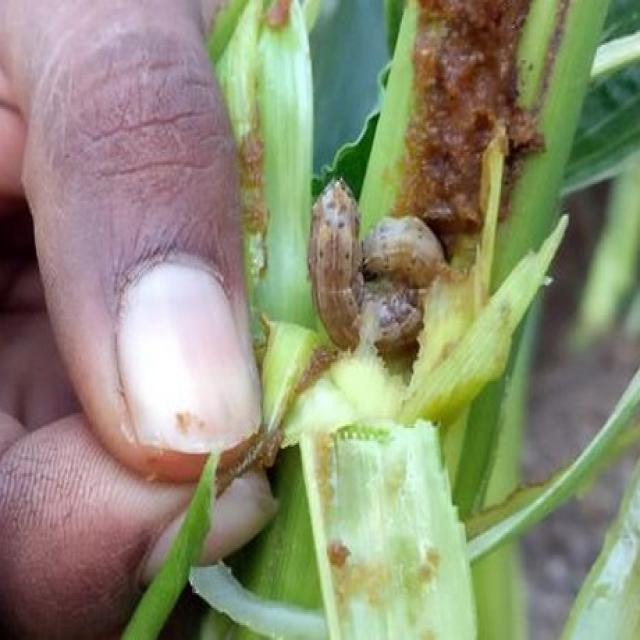Fall-armyworm: (306, 156, 451, 370)
